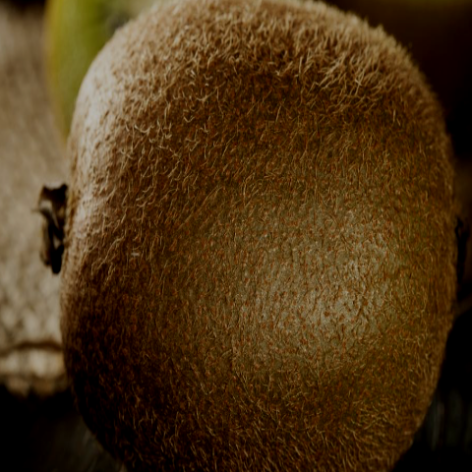kiwi: (17, 1, 472, 472)
